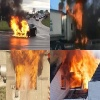fire: (11, 50, 45, 90), (65, 52, 97, 89), (10, 14, 30, 39), (65, 3, 83, 29), (74, 33, 88, 46)
